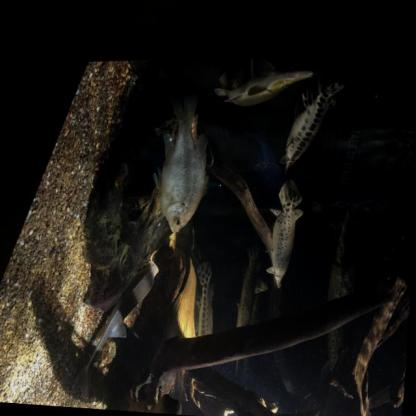fish: (149, 89, 216, 237), (316, 203, 365, 387), (277, 75, 346, 179), (211, 51, 315, 113), (263, 175, 306, 288), (233, 242, 271, 344), (239, 126, 286, 194), (190, 258, 218, 349)
shark: (69, 254, 160, 404)
